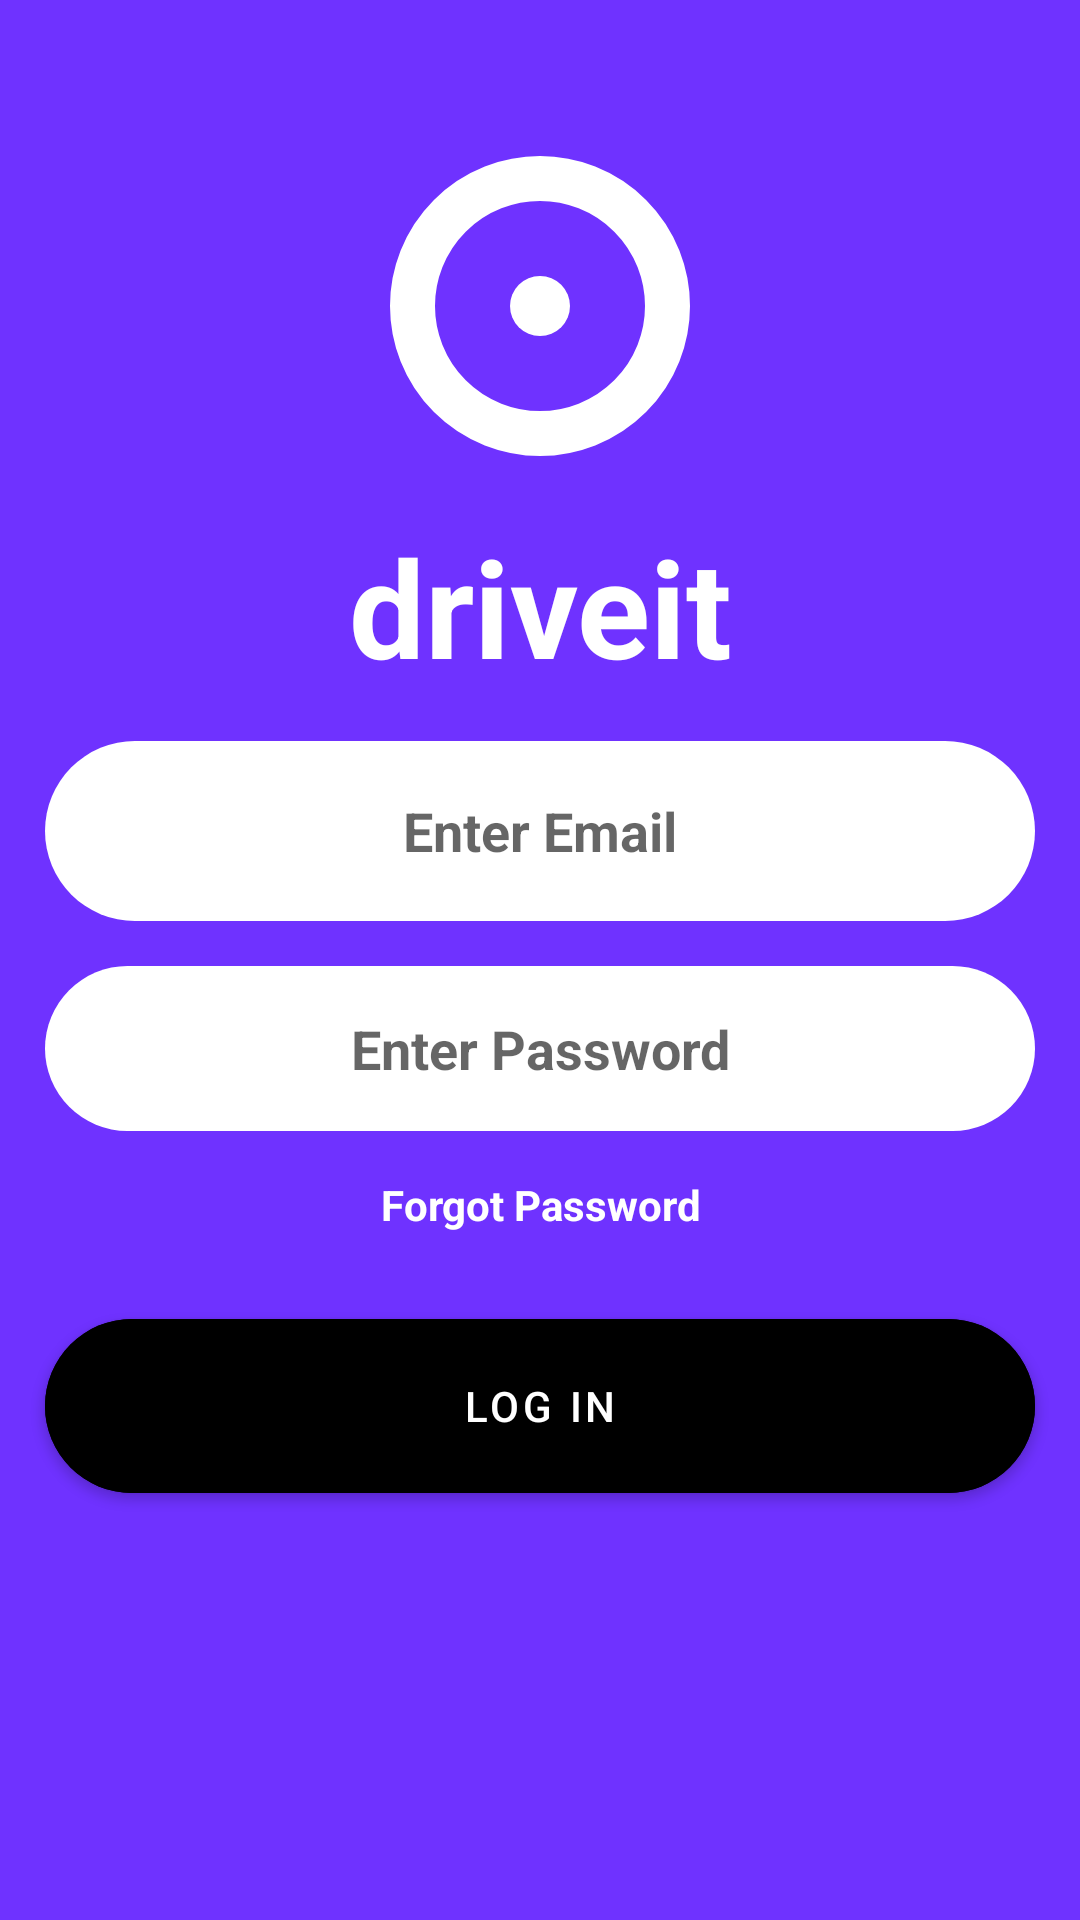

Where to tap for icons on this 1080x1920 app screen, as (x,y):
login roundshape: (540,306)
